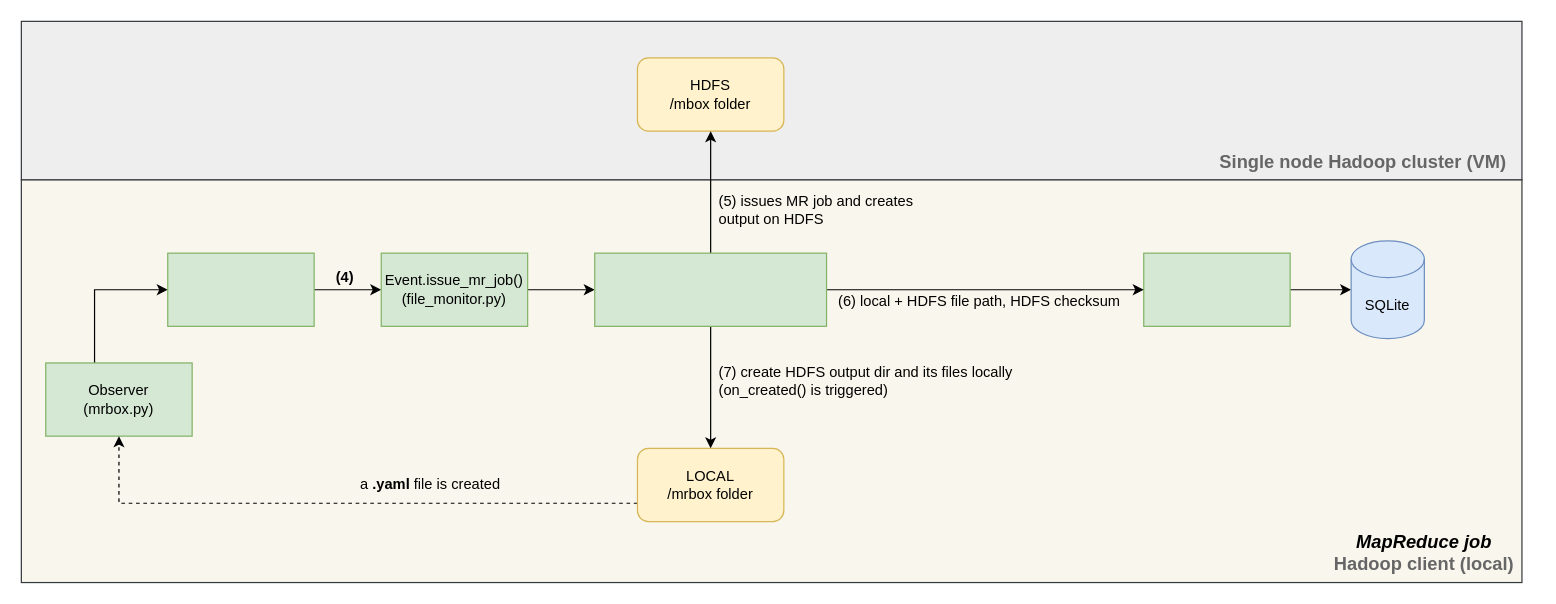
The diagram is 1556 pixels wide and 604 high, and some of its shapes have lost their labels. Here are the shapes that lost their labels. From the top down, the centre of each, then its label:
At [240,289]: "Event.on_created() (file_monitor.py)".
At [710,289]: "create_locally_synced_hdfs_dir() (hdfs_util.py)".
At [1216,289]: "LocalCatalogue (local_catalogue.py)".
